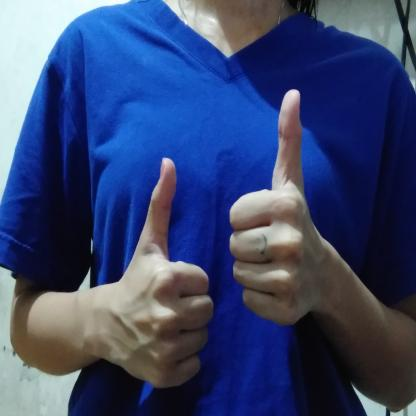which: (109, 86, 332, 396)
